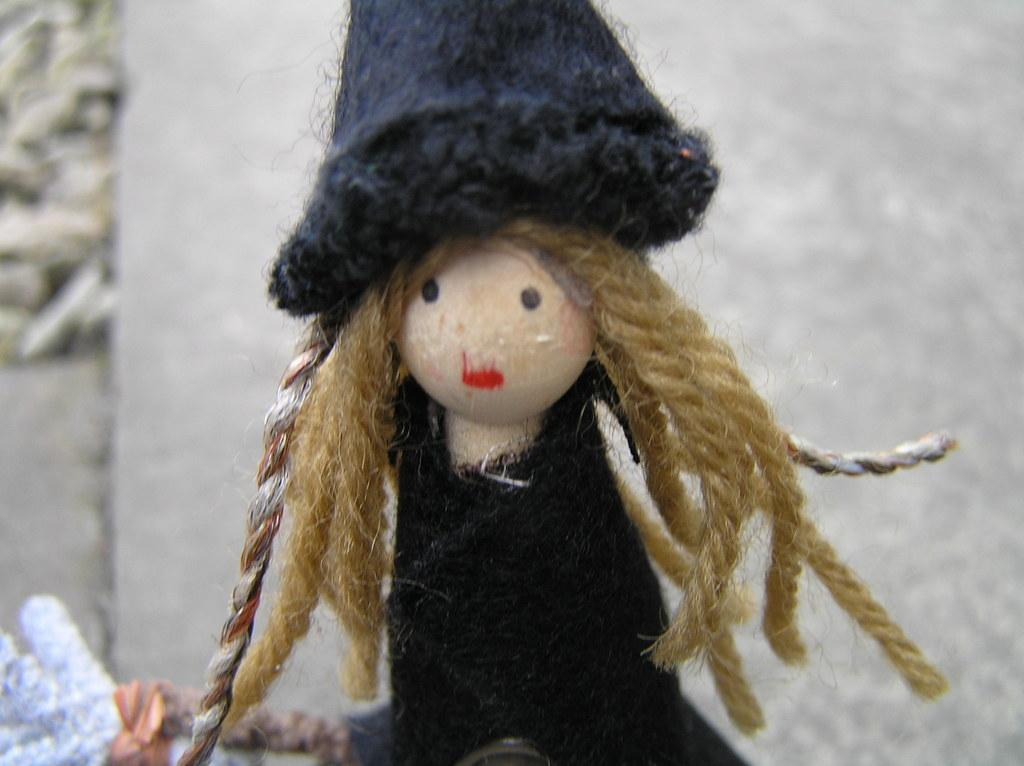Hat: (262, 0, 720, 313)
